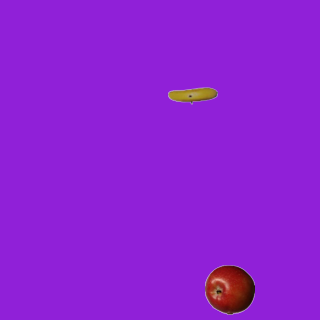Apple Braeburn: (204, 264, 254, 314)
Banana: (167, 70, 217, 120)
